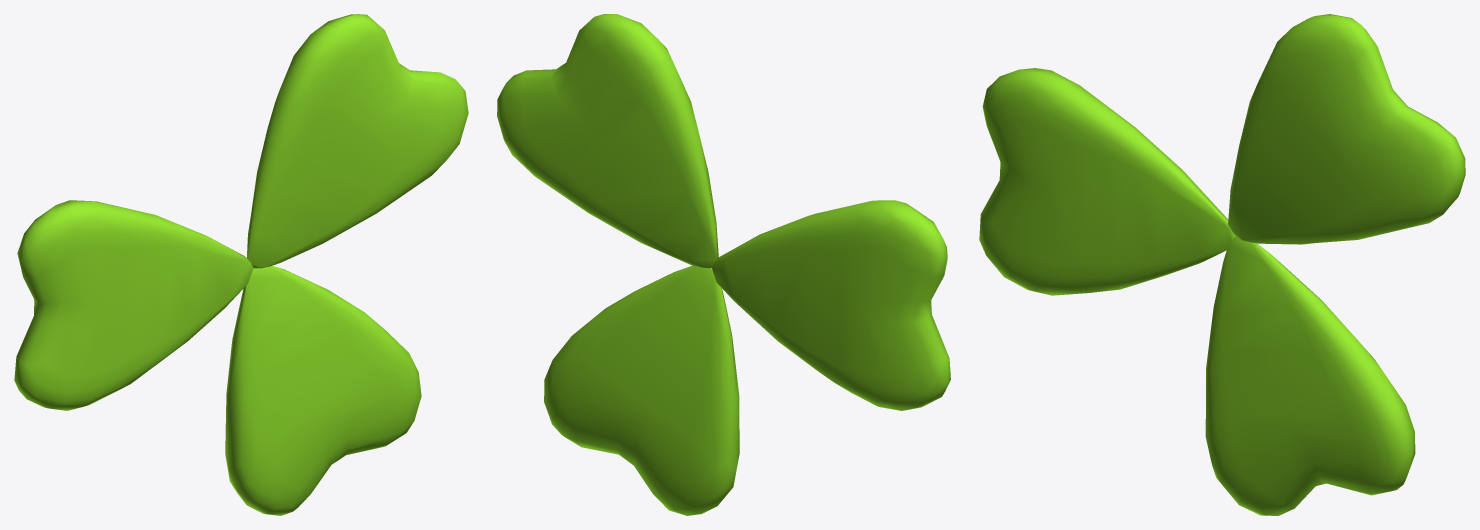
File: heartshapedleaves.fbx
3 views of the same model, side by side, from view 1: azimuth 30°, elevation 25°; view 2: azimuth 150°, elevation 25°; view 3: azimuth 330°, elevation 25° (orthographic). The views are drawn at different scales.
Visible parts, largest first — view 1: 2ndleaf1.001, 2ndleaf3.001, 2ndleaf.001; view 2: 2ndleaf1.001, 2ndleaf3.001, 2ndleaf.001; view 3: 2ndleaf.001, 2ndleaf3.001, 2ndleaf1.001.
Part boxes in pixels (box(x1,y1,x2,y2)): 2ndleaf1.001: box(247, 14, 468, 268); 2ndleaf3.001: box(14, 200, 253, 410); 2ndleaf.001: box(225, 265, 421, 515); 2ndleaf1.001: box(497, 14, 718, 268); 2ndleaf3.001: box(712, 200, 950, 410); 2ndleaf.001: box(544, 265, 739, 515); 2ndleaf.001: box(1205, 236, 1415, 515); 2ndleaf3.001: box(979, 68, 1234, 295); 2ndleaf1.001: box(1228, 14, 1465, 244).
Bounding box in the file's own units: 113 × 115 × 10.48.
